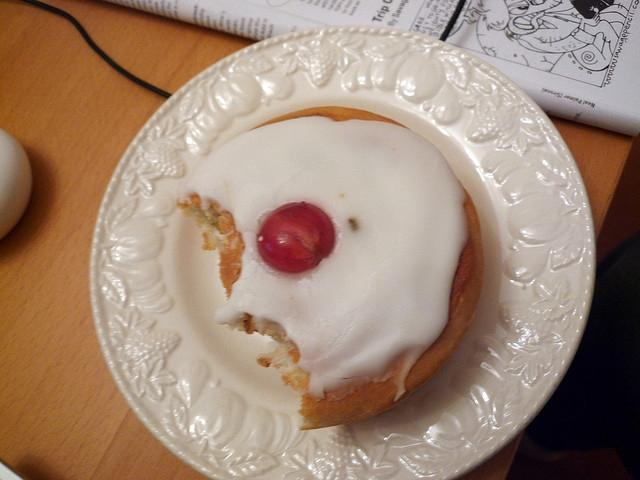cherry: (256, 201, 336, 274)
